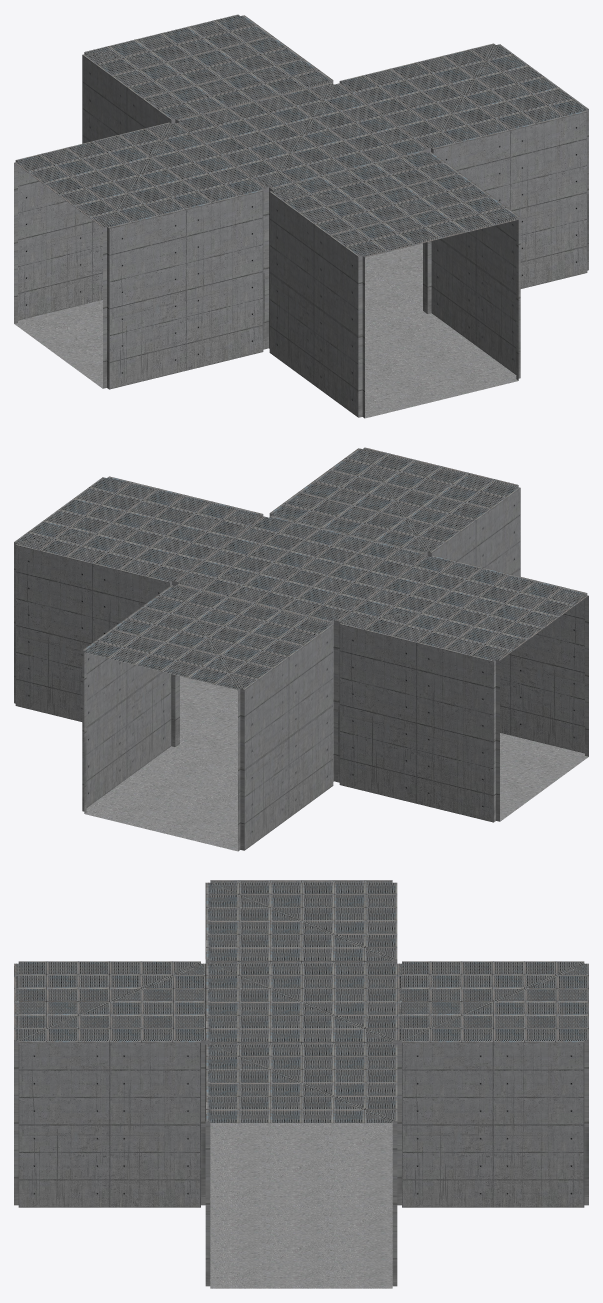
Rendered from Cross.fbx.
3 views of the same model, one above another, from view 1: azimuth 30°, elevation 25°; view 2: azimuth 150°, elevation 25°; view 3: azimuth 270°, elevation 25° (orthographic). The views are drawn at different scales.
Visible parts, largest first — view 1: Room.001, Room.003, Room.002; view 2: Room.001, Room.003, Room.002; view 3: Room.001, Room.002, Room.003.
Part boxes in pixels (bbox=[...]): Room.001: bbox=[82, 14, 520, 418]; Room.003: bbox=[14, 122, 264, 389]; Room.002: bbox=[338, 43, 588, 306]; Room.001: bbox=[82, 447, 520, 851]; Room.003: bbox=[338, 555, 588, 822]; Room.002: bbox=[14, 476, 264, 739]; Room.001: bbox=[14, 961, 588, 1207]; Room.002: bbox=[205, 1042, 397, 1288]; Room.003: bbox=[205, 880, 397, 1126].
Bounding box in the file's own units: 600 × 190 × 600.
